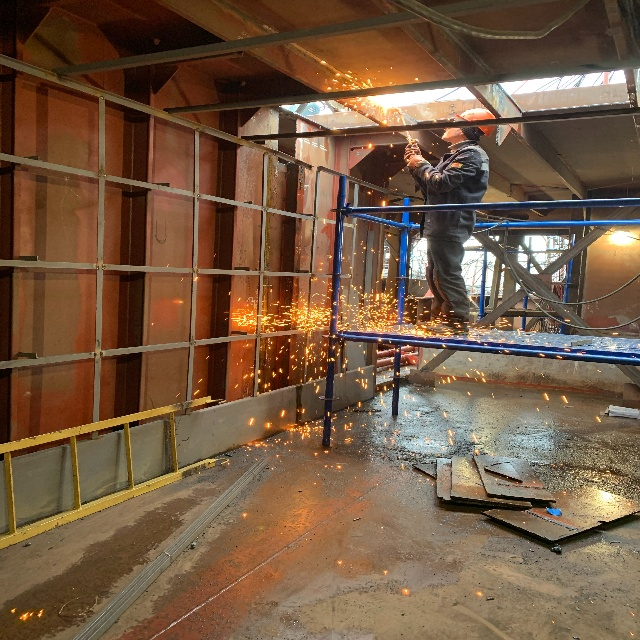Guantes: (403, 143, 423, 168), (406, 154, 424, 169)
